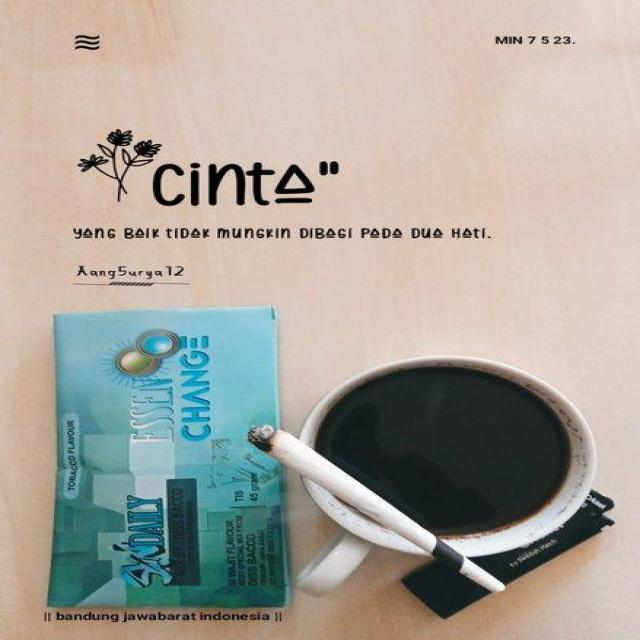rokok: (243, 417, 511, 603)
